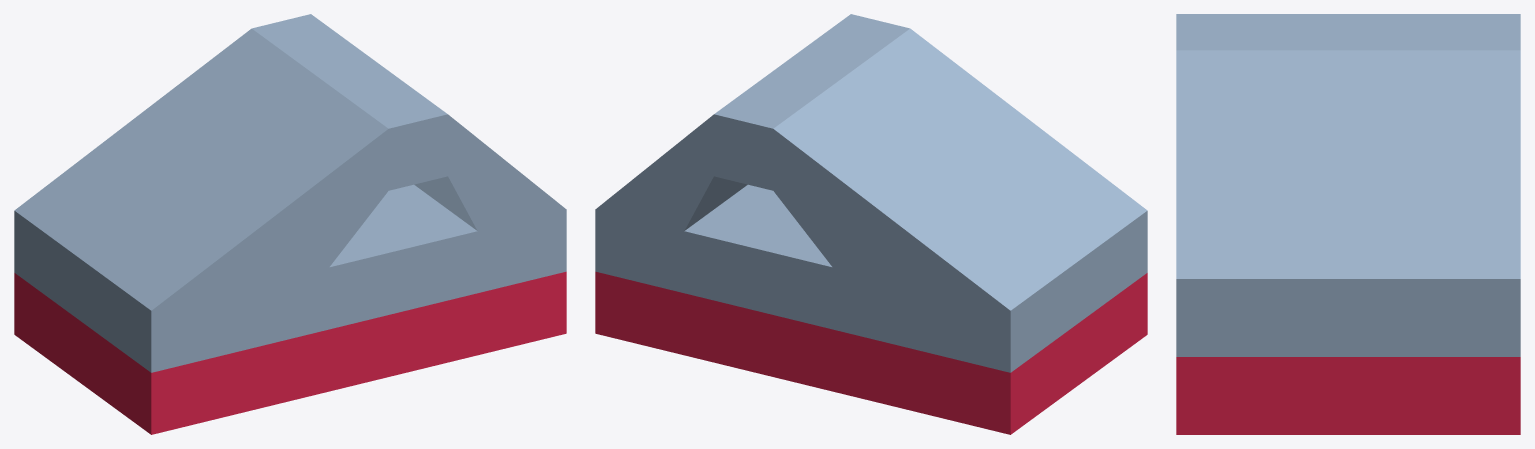
The model's file is TechnoCultistShoes.glb.
The picture shows the model from 3 angles, left to right: view 1: azimuth 30°, elevation 25°; view 2: azimuth 150°, elevation 25°; view 3: azimuth 270°, elevation 25°; orthographic projection. The views are drawn at different scales.
Parts seen in each view (by area): view 1: generated(Clone); view 2: generated(Clone); view 3: generated(Clone).
Part boxes in pixels (box(x1,y1,x2,y2)): generated(Clone): box(14, 14, 566, 434); generated(Clone): box(595, 14, 1147, 434); generated(Clone): box(1176, 14, 1520, 434).
Bounding box in the file's own units: 5.25 × 3 × 3.
